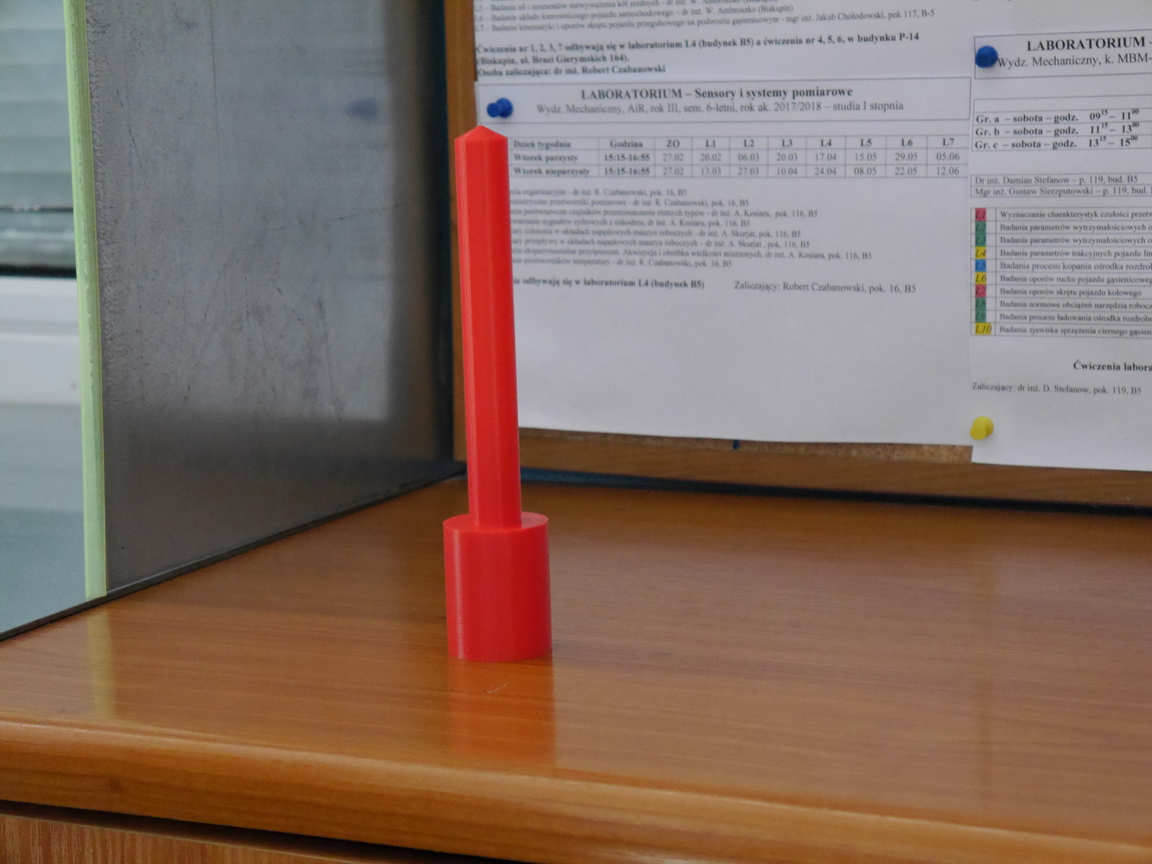cargo_g: (444, 126, 556, 662)
